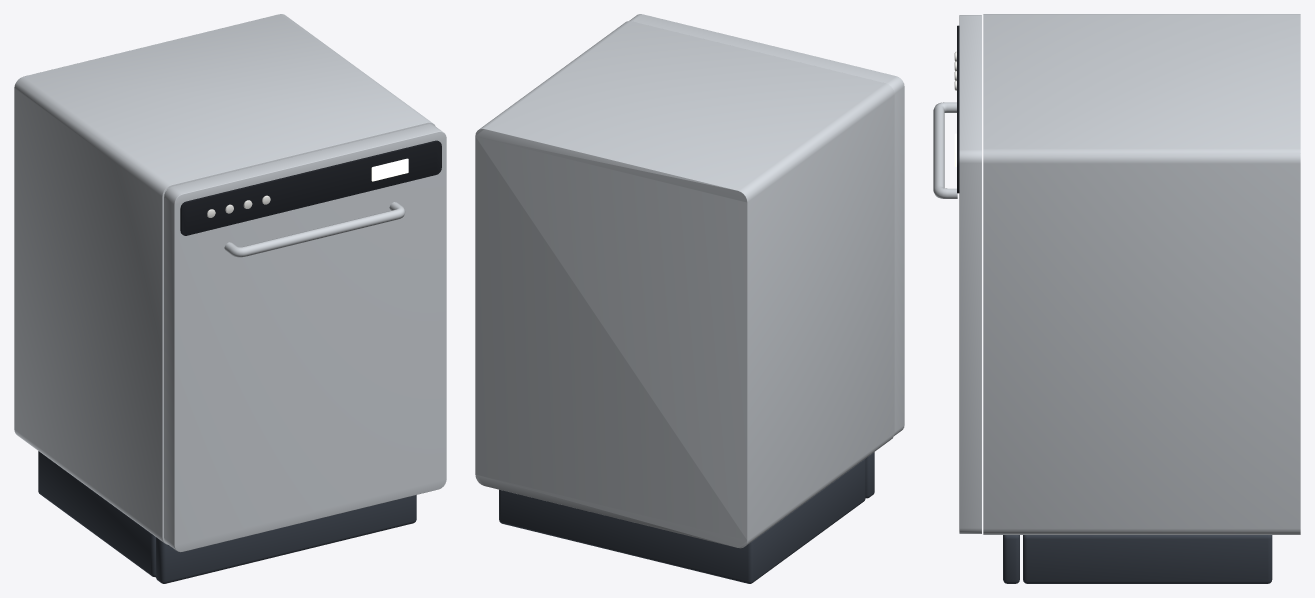
The model's file is lava_loucas_inox.glb.
3 views of the same model, side by side, from view 1: azimuth 30°, elevation 25°; view 2: azimuth 150°, elevation 25°; view 3: azimuth 270°, elevation 25° (orthographic). The views are drawn at different scales.
Parts seen in each view (by area): view 1: lava_loucas_inox, porta; view 2: lava_loucas_inox, porta; view 3: lava_loucas_inox, porta.
Part boxes in pixels (x1,y1,x2,y2): lava_loucas_inox: (14, 14, 435, 583); porta: (164, 124, 446, 552); lava_loucas_inox: (475, 21, 894, 583); porta: (629, 14, 904, 435); lava_loucas_inox: (983, 14, 1300, 583); porta: (933, 15, 981, 533).
Bounding box in the file's own units: 0.598 × 0.85 × 0.648.
2 materials, 1 textured.
